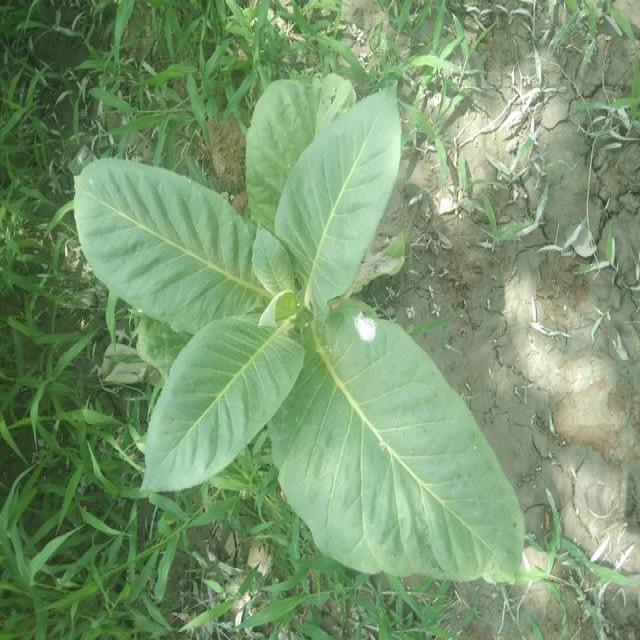crop: (71, 77, 526, 584)
